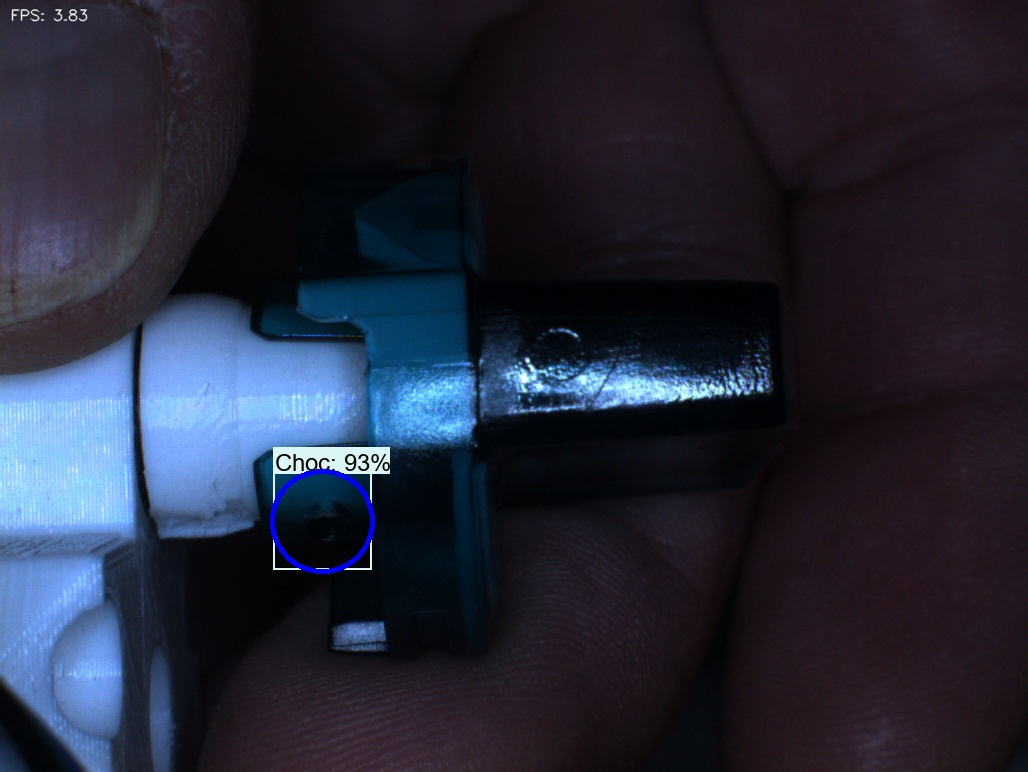DentOk: (331, 180, 395, 271)
